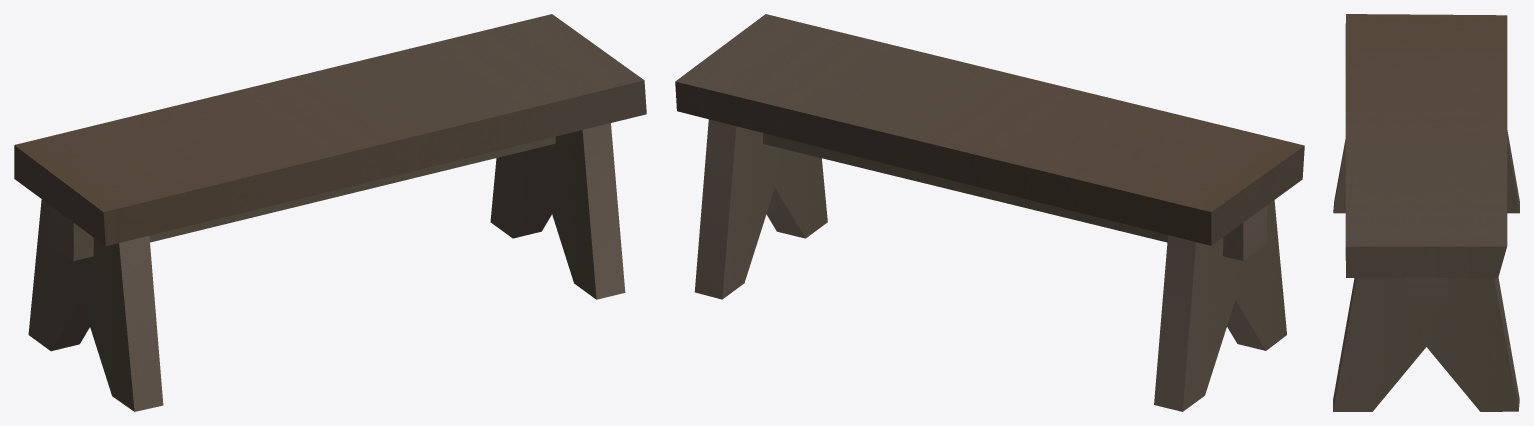
Rendered from Bench.fbx.
3 renders of one model, left to right at view 1: azimuth 30°, elevation 25°; view 2: azimuth 150°, elevation 25°; view 3: azimuth 270°, elevation 25°, orthographic. The views are drawn at different scales.
Parts seen in each view (by area): view 1: polySurface1491; view 2: polySurface1491; view 3: polySurface1491.
Boxes of the visible parts, <box> form: polySurface1491: <box>14,14,646,411</box>; polySurface1491: <box>675,14,1304,411</box>; polySurface1491: <box>1333,14,1519,411</box>.
Size of the model in its own units: 188 by 66.45 by 63.6.
